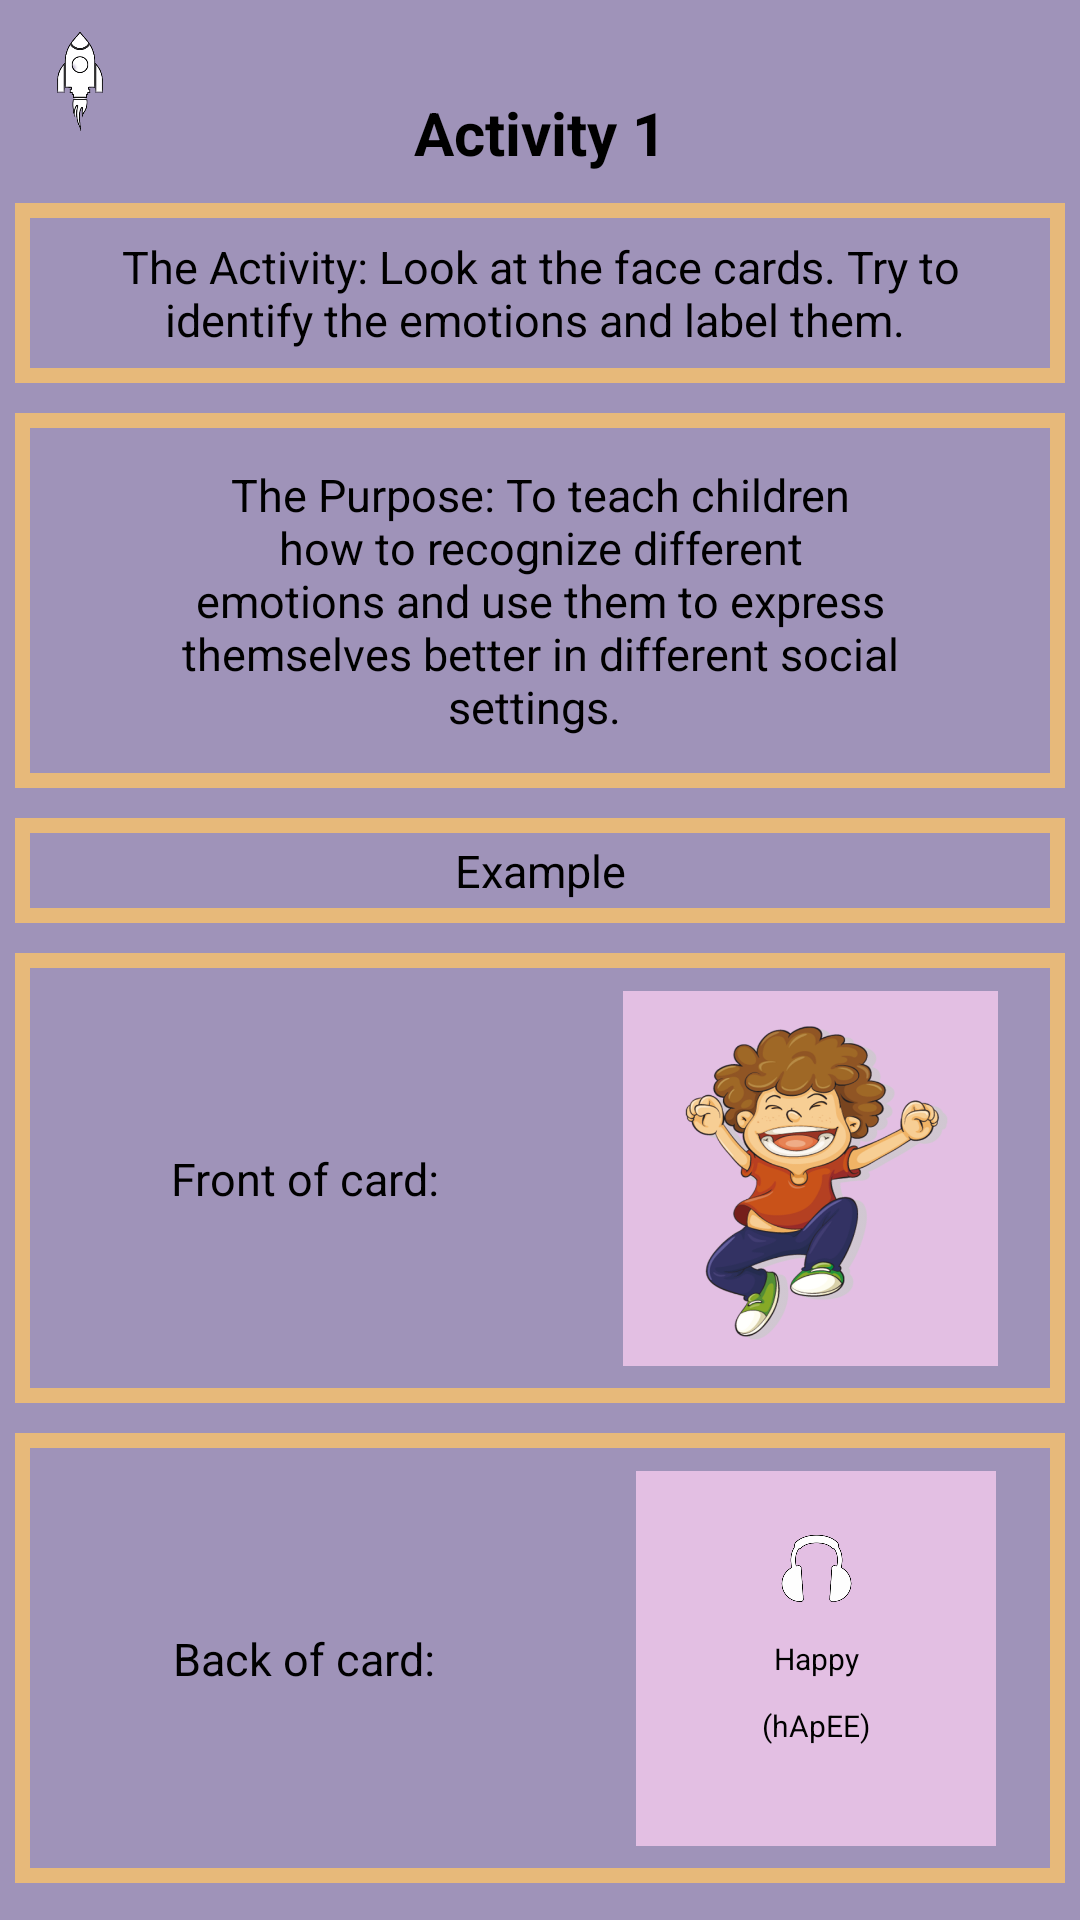

Icon bounding boxes for this 1080*1920 phone screenshot, format (x1, y1, x2, y2):
headphones: (781, 1535, 852, 1602)
